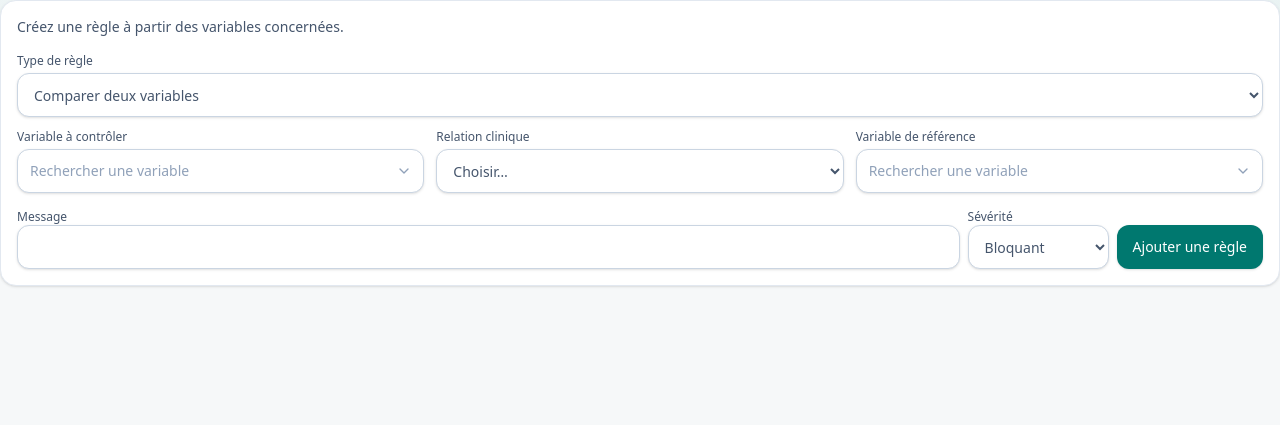
it: RuleForm › une recherche sans resultat le dit, et la valeur choisie reste proposee
// Sans choix en cours, une recherche vide est annoncee comme telle.
Type "zzzz" into the dropdown named "Variable à contrôler".
click(221, 171); type("zzzz")  # box [17,149,424,193]
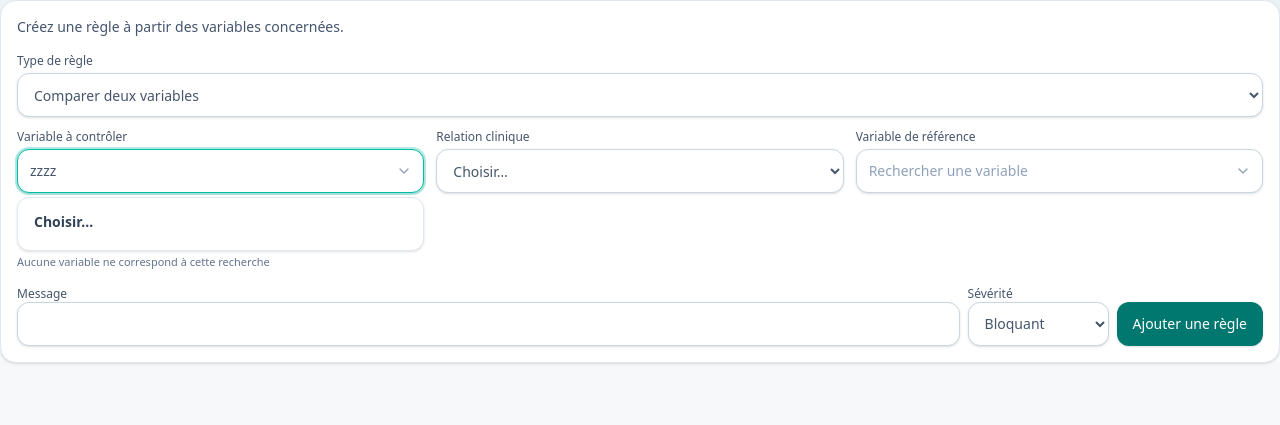
Now the text "Aucune variable ne correspond à cette recherche" is shown, box [17,254,270,269]
// Au clavier : les fleches parcourent la liste, Entree choisit sans soumettre la regle.
Replace the text in the dropdown named "Variable à contrôler" with "Variable 3" at (221, 171), box [17,149,424,193]
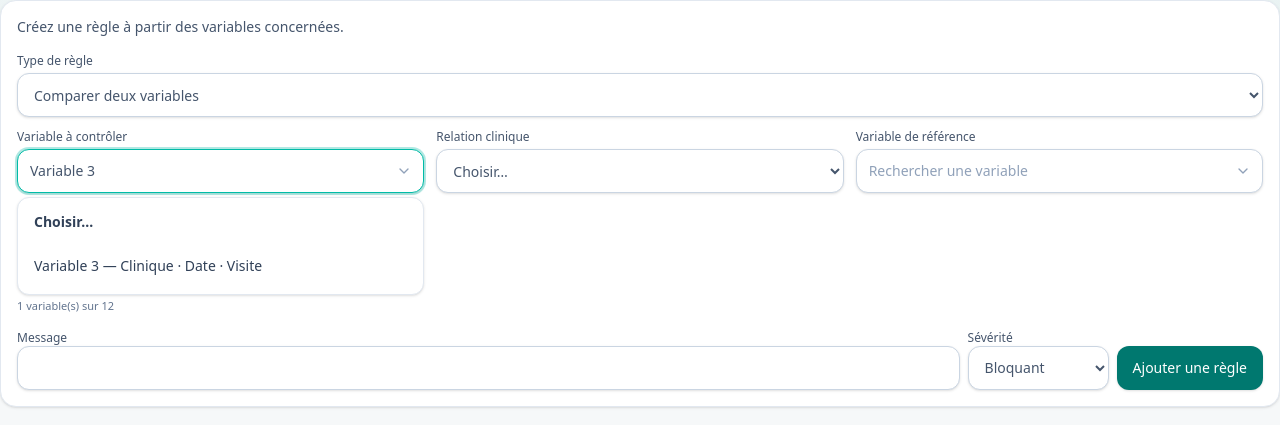
Press Arrowdown Arrowdown Enter
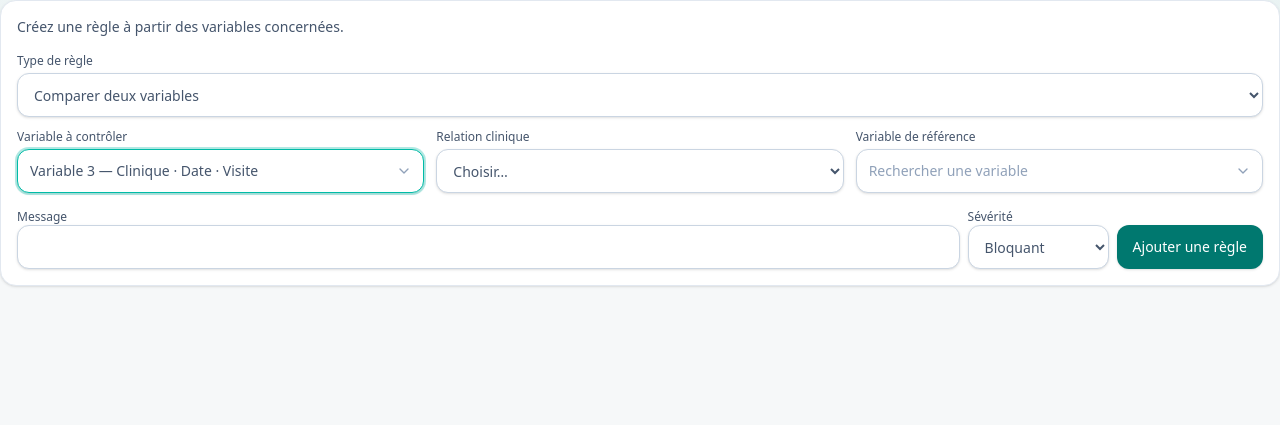
// Avec un choix en cours, la variable choisie reste proposee : filtrer n'efface pas une reponse.
Replace the text in the dropdown named "Variable à contrôler" with "zzzz" at (221, 171), box [17,149,424,193]
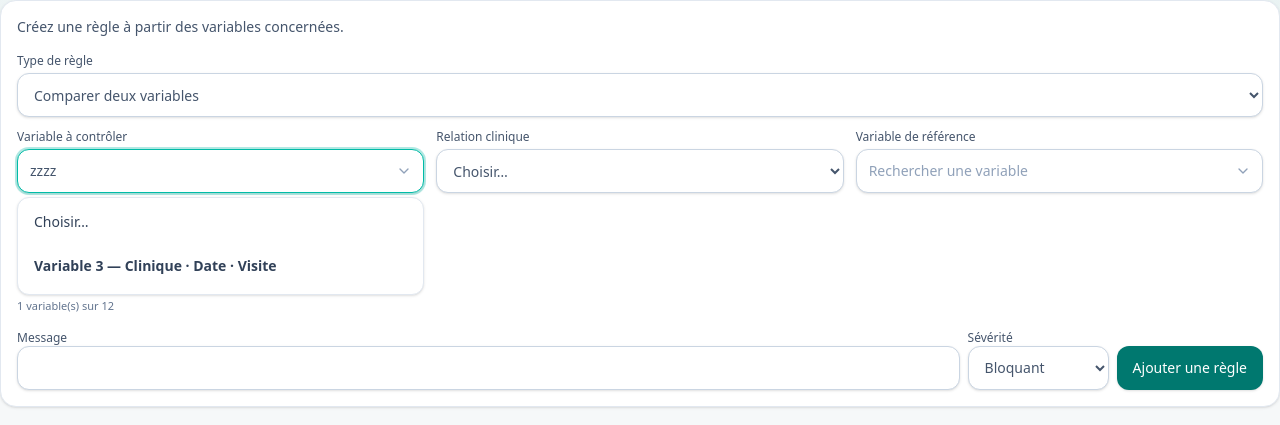
Now the text "1 variable(s) sur 12" is shown, box [17,298,114,313]
